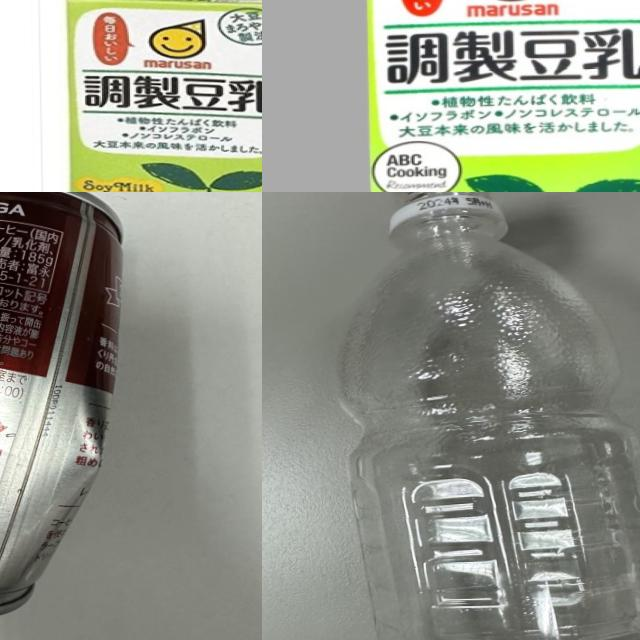Aluminium Foil: (353, 0, 640, 192), (51, 0, 262, 192)
Can: (0, 192, 126, 618)
Transparent Plastic Bottle: (327, 192, 640, 640)
